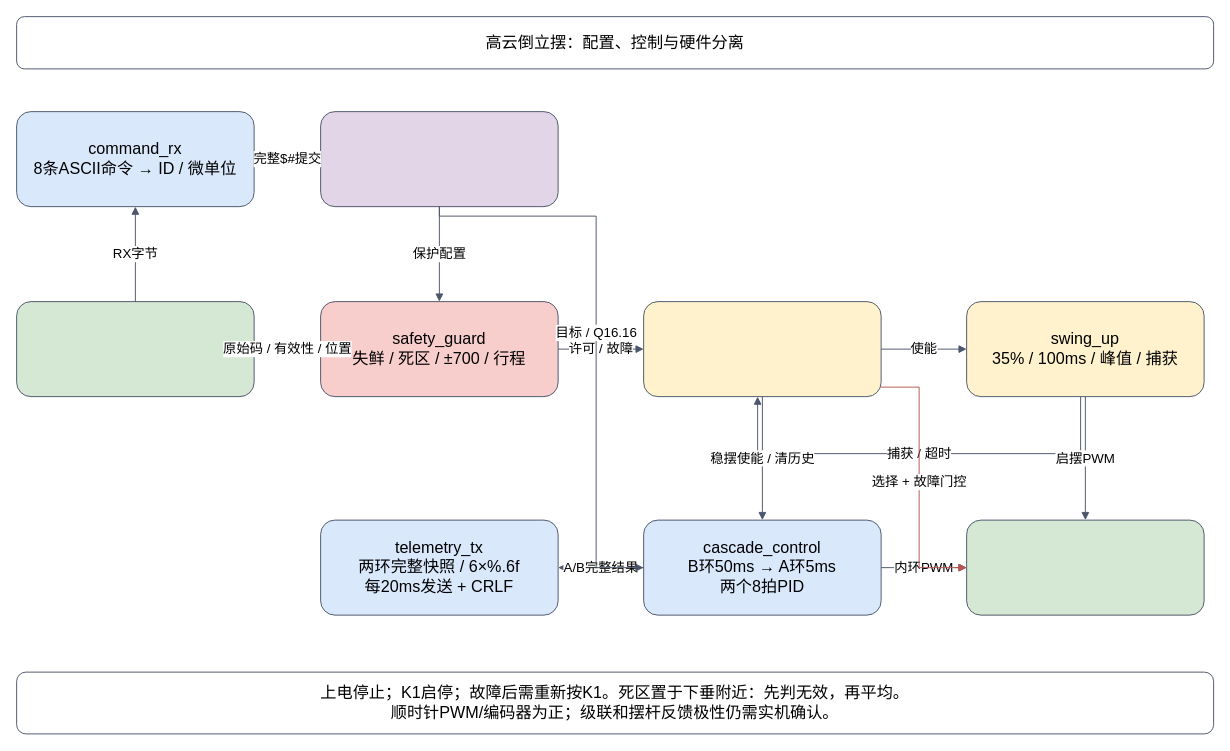
The diagram is 1230 pixels wide and 751 high, and some of its shapes have lost their labels. The box of each missing label's shape, as (x1, y1, x2, y2) in pixels:
board_io · 电机 保护优先门控 / 原TB6612 / PWM 20kHz，±2500: (966, 519, 1204, 615)
board_io · 采样 ADC / 编码器 / Key / UART: (16, 301, 254, 397)
config_bank + gain_convert 直立2180 / 连续参数 / 事务换算: (320, 111, 558, 207)
run_control 停止 / 手动 / 启摆 / 稳摆 / 故障: (643, 301, 881, 397)
